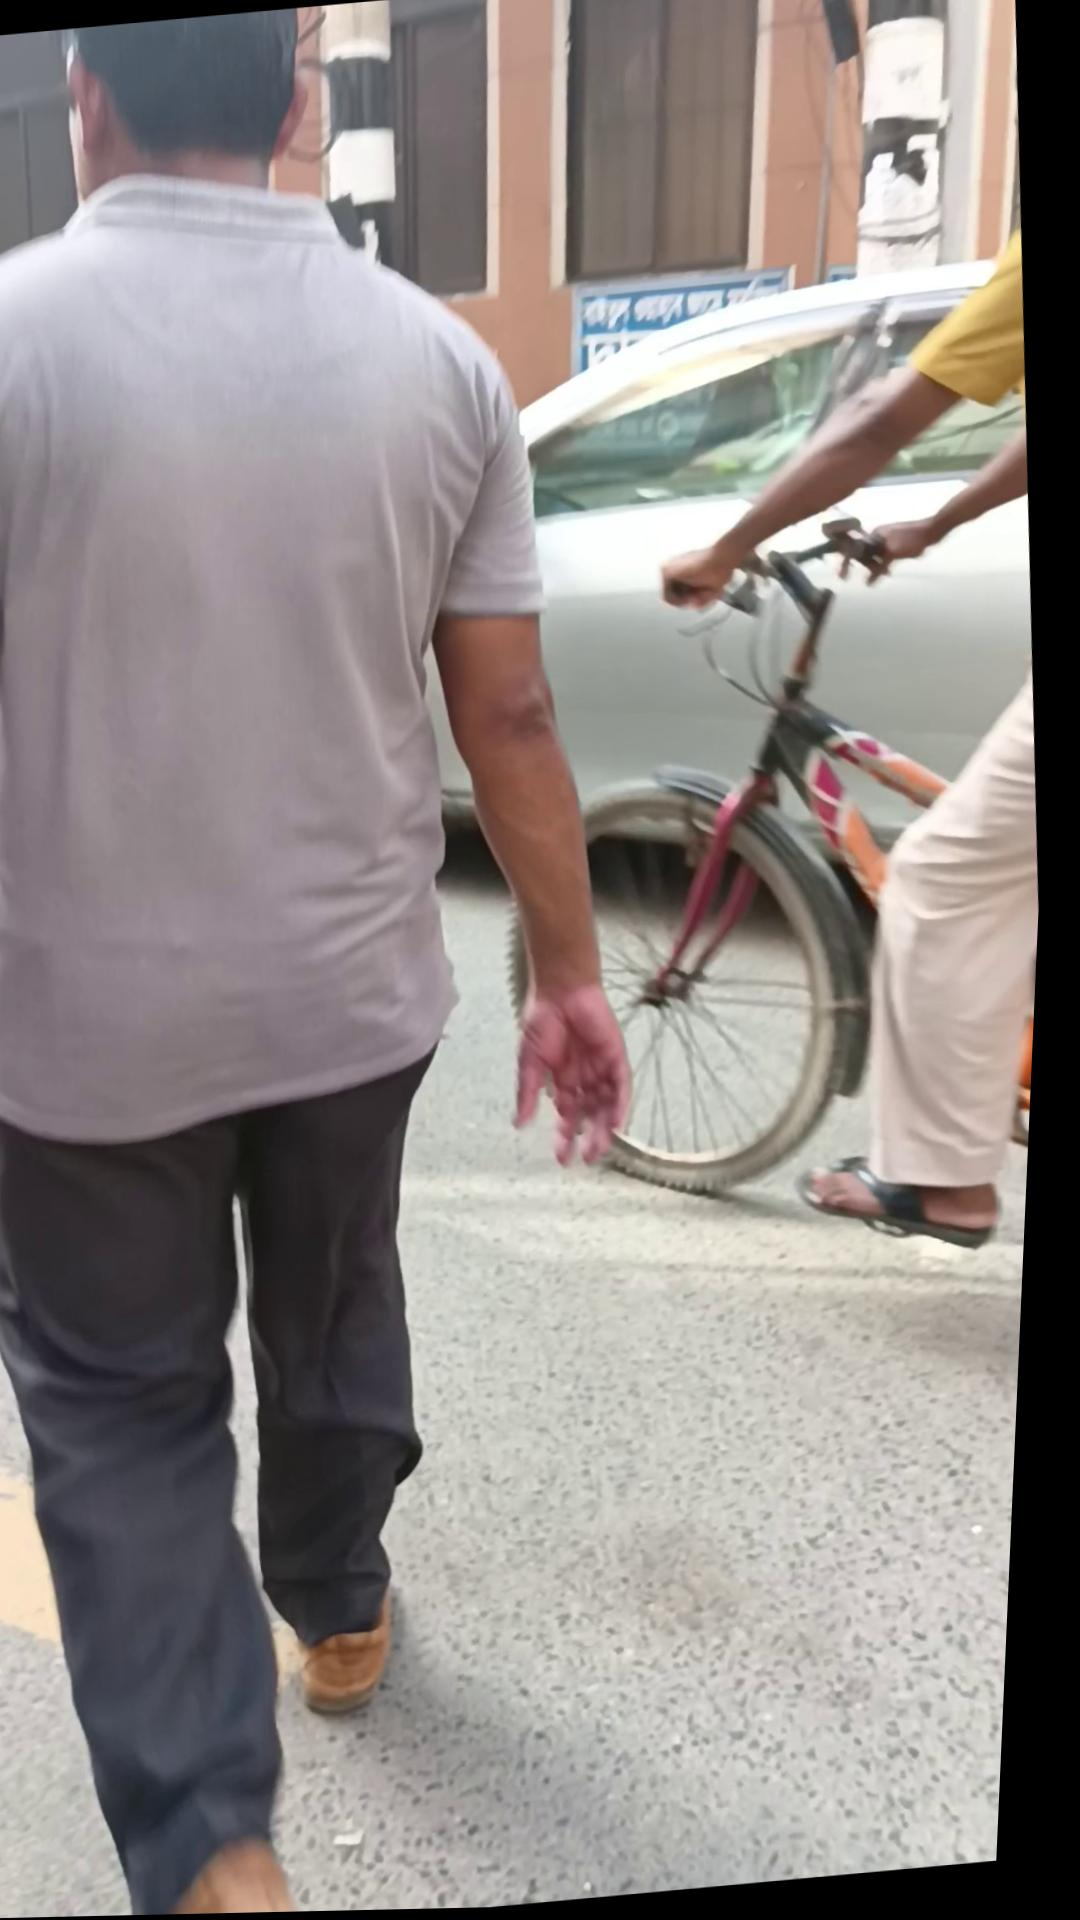Car: (392, 257, 1064, 919)
Muddy road: (0, 0, 737, 1920), (616, 227, 1071, 1280)
Obstacle: (306, 1, 413, 274)
